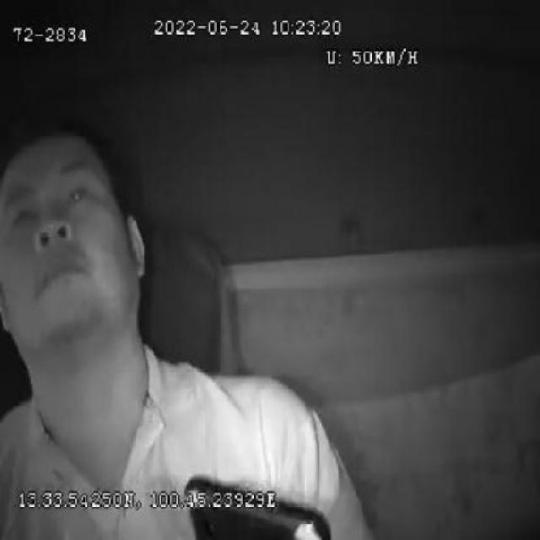phone: (177, 456, 333, 540)
